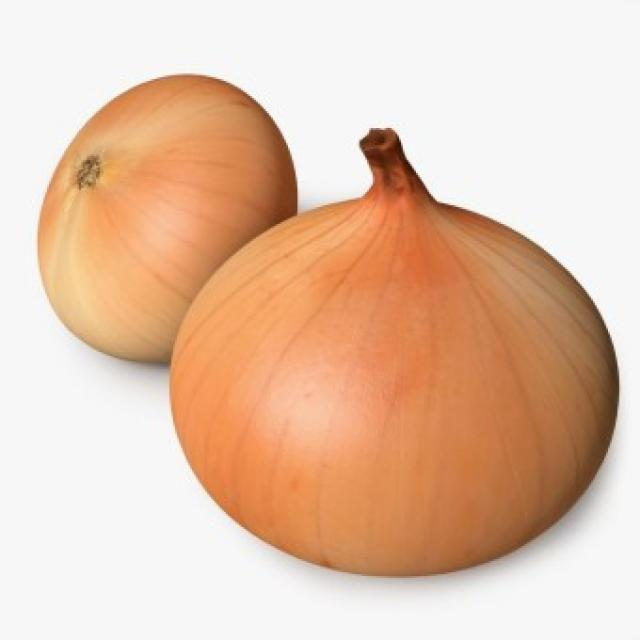Onion: (173, 125, 618, 575), (38, 73, 300, 363)
